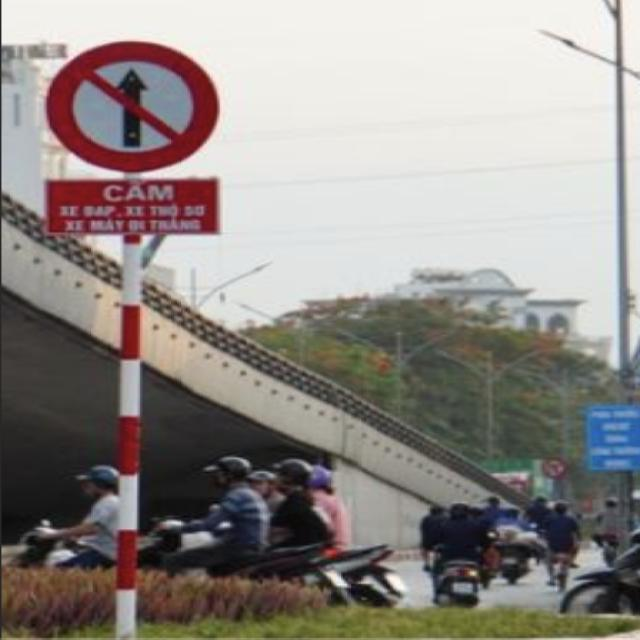136-cam-di-thang: (41, 41, 222, 171)
